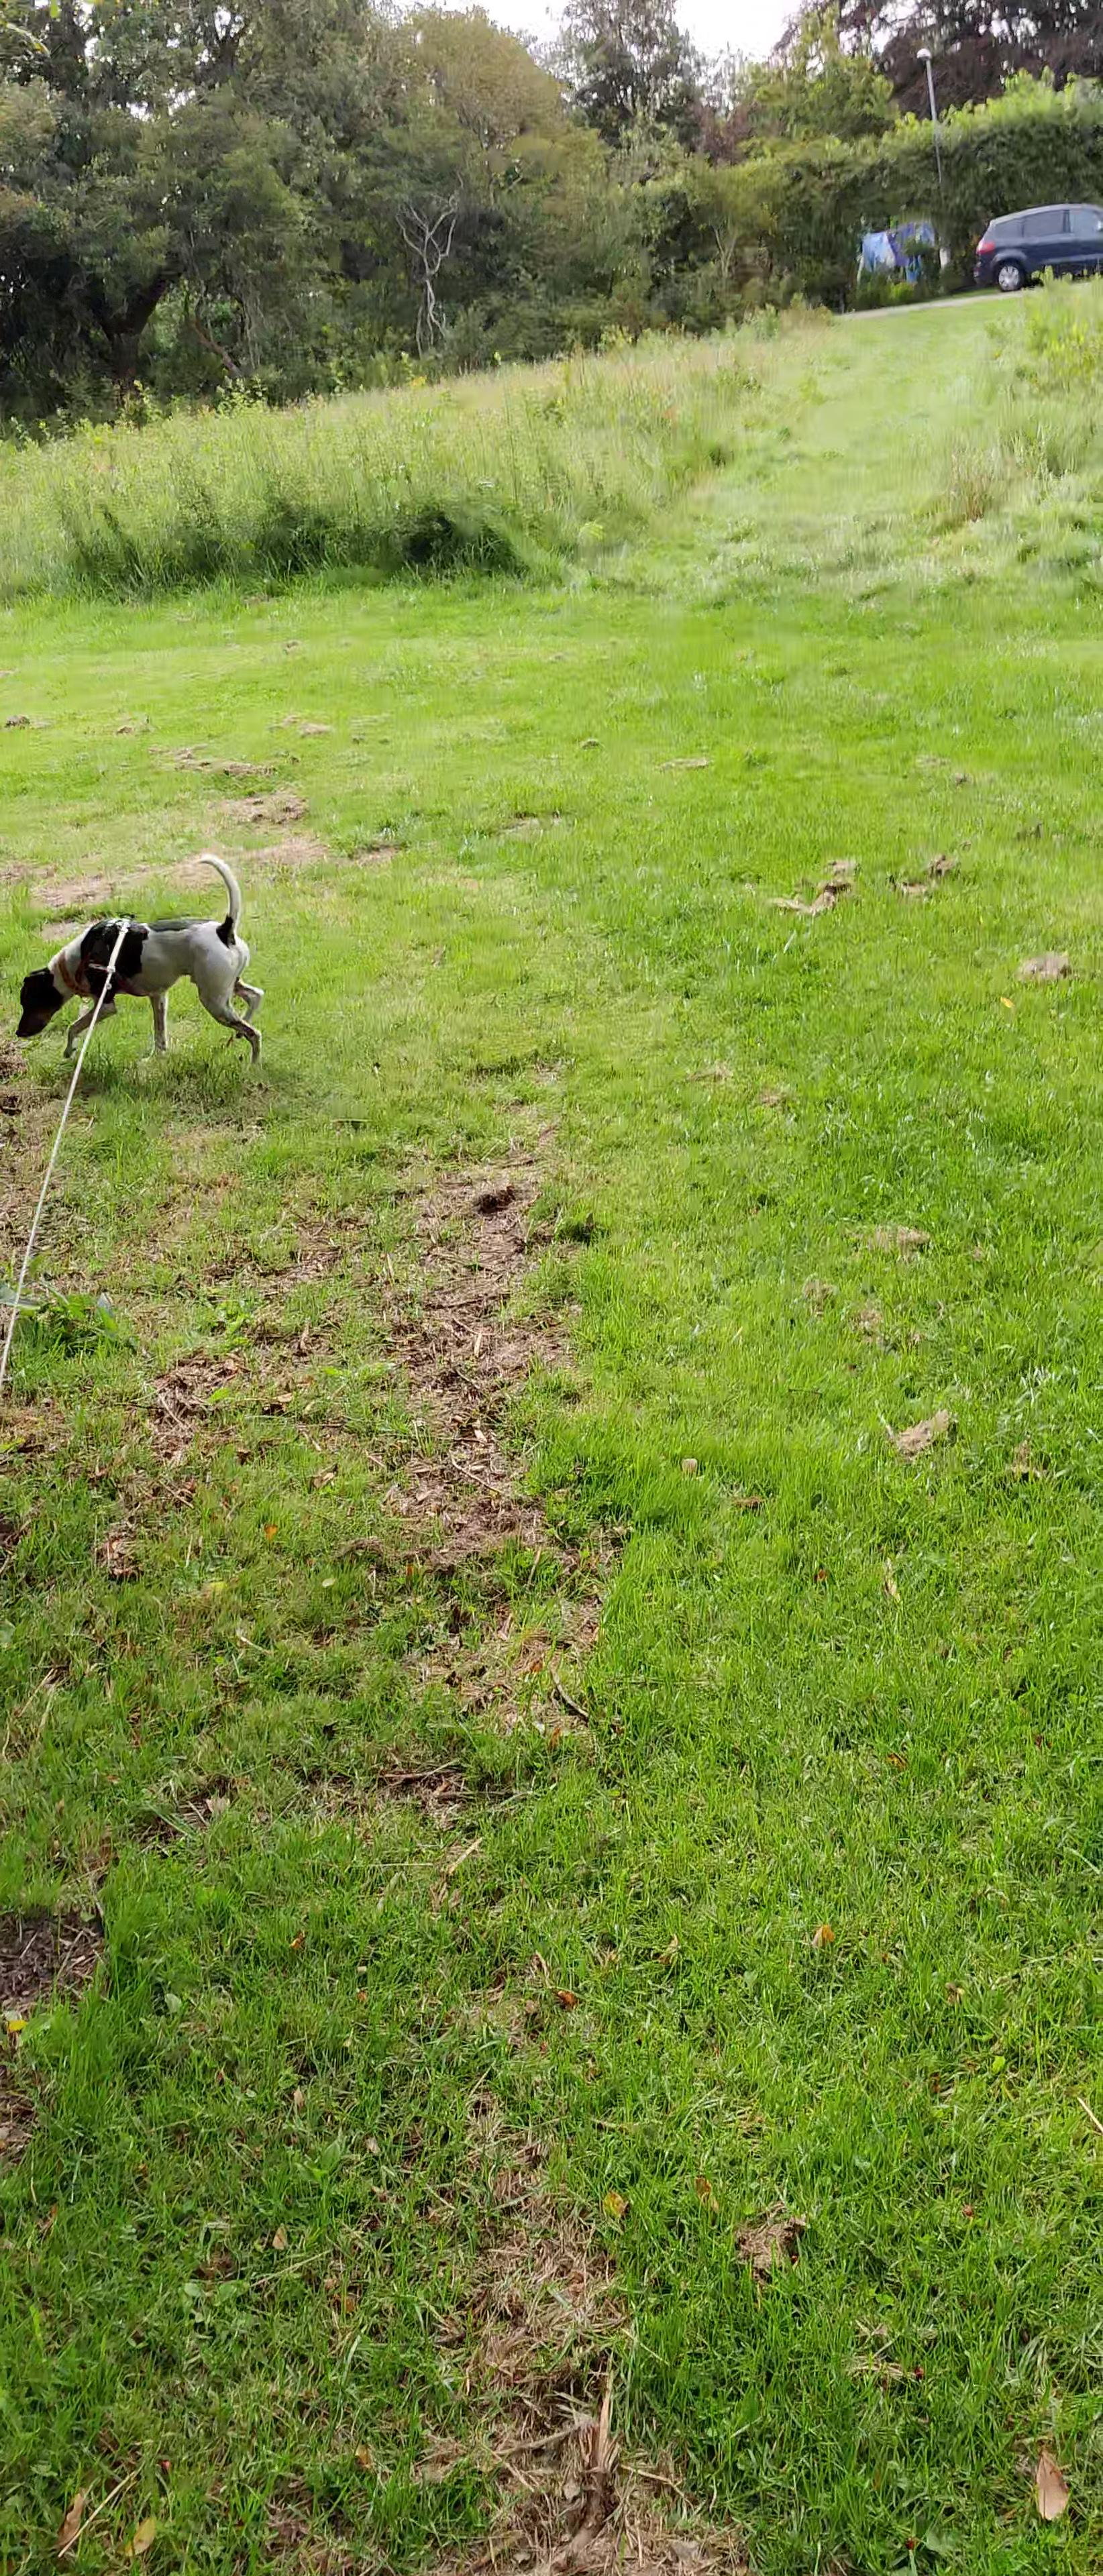Dog: (5, 843, 279, 1083)
